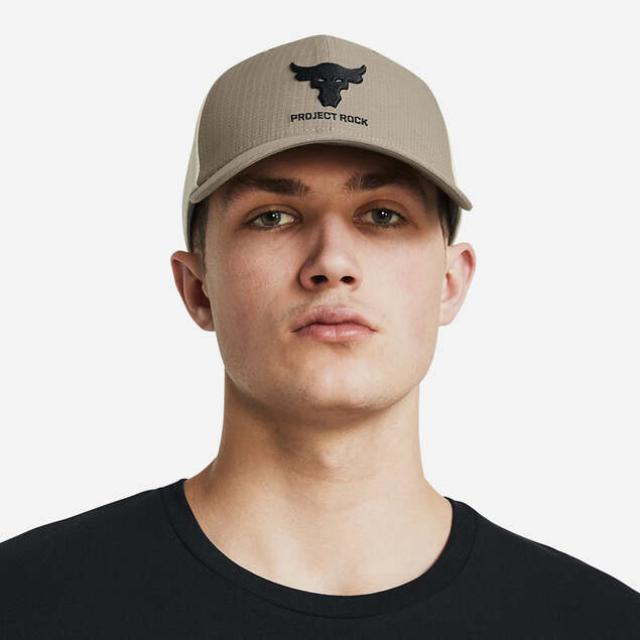Nonhelmet: (165, 32, 474, 434)
